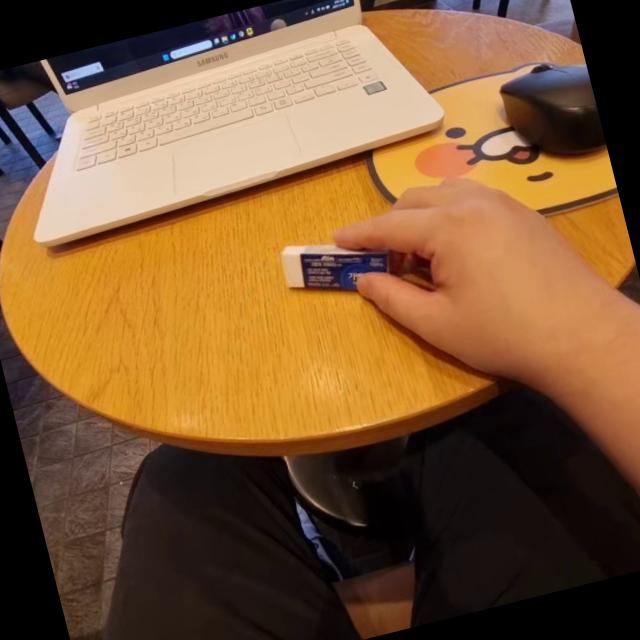eraser: (267, 209, 405, 314)
grab_eraser: (266, 141, 618, 447)
hand: (346, 154, 578, 381)
mouse: (483, 49, 607, 174)
